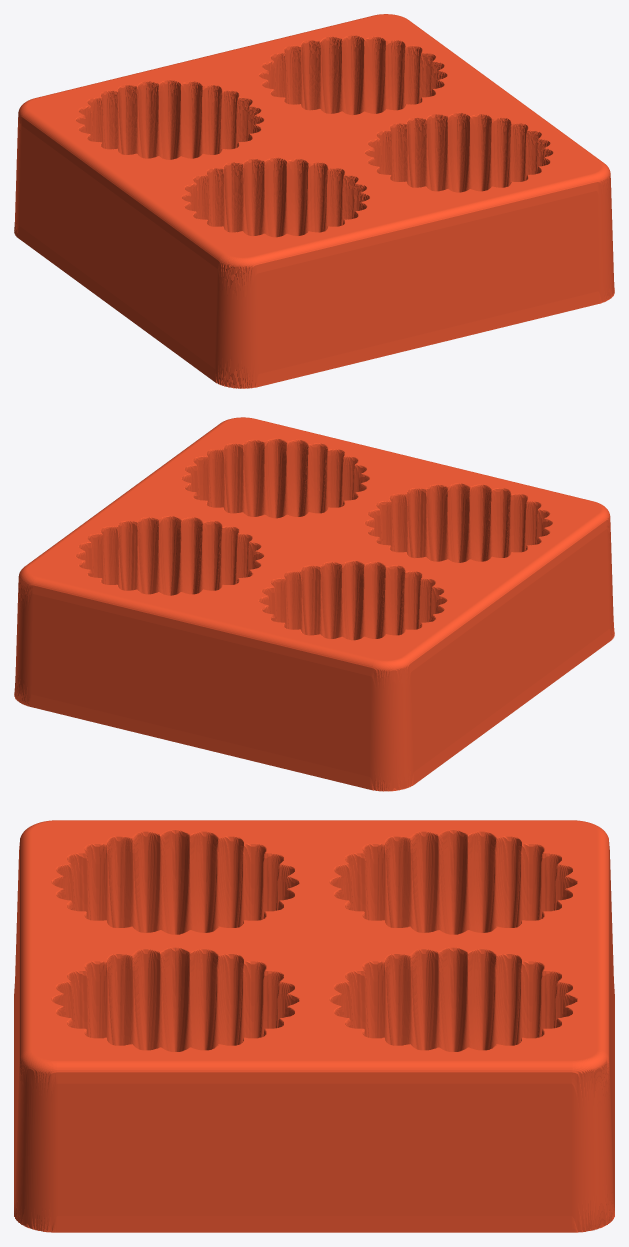
The model's file is mold.glb.
3 renders of one model, top to bottom at view 1: azimuth 30°, elevation 25°; view 2: azimuth 150°, elevation 25°; view 3: azimuth 270°, elevation 25°, orthographic. The views are drawn at different scales.
Parts seen in each view (by area): view 1: geometry_0; view 2: geometry_0; view 3: geometry_0.
Part boxes in pixels (x1=…): geometry_0: x1=14, y1=14, x2=614, y2=388; geometry_0: x1=14, y1=417, x2=614, y2=791; geometry_0: x1=14, y1=820, x2=614, y2=1232.
Bounding box in the file's own units: 0.1248 × 0.0378 × 0.1248.
